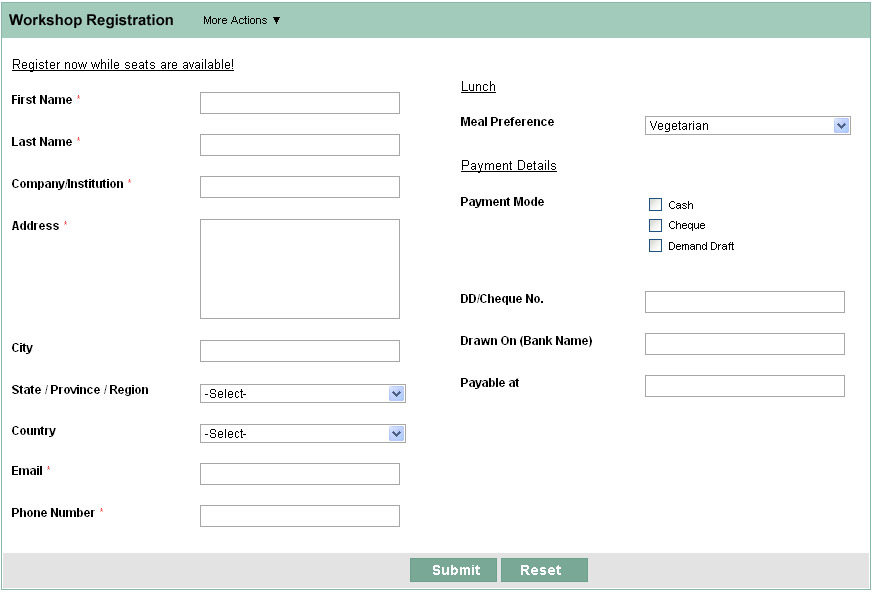_form_: (1, 79, 416, 495), (1, 125, 416, 541), (455, 103, 863, 446), (369, 537, 645, 593)
button: (499, 556, 589, 584), (408, 556, 497, 583)
checkbox: (648, 195, 664, 212), (648, 217, 665, 233), (648, 238, 664, 254)
checkbox_with_label: (646, 236, 735, 256), (646, 215, 705, 235), (645, 193, 694, 214)
field: (197, 218, 401, 320), (197, 90, 401, 116), (642, 373, 847, 398), (196, 338, 400, 363), (642, 331, 845, 356), (643, 289, 845, 314), (195, 462, 401, 486), (197, 133, 400, 157), (195, 175, 401, 198), (196, 505, 401, 528), (200, 423, 407, 444), (198, 383, 407, 403), (644, 115, 852, 135)
field_with_label: (11, 216, 402, 322), (10, 87, 403, 118), (12, 336, 402, 365), (460, 371, 849, 399), (461, 287, 848, 315), (9, 460, 402, 487), (9, 503, 402, 530), (11, 173, 402, 200), (460, 329, 847, 356), (11, 132, 401, 158), (11, 381, 409, 405), (12, 421, 408, 445), (459, 114, 853, 137)
